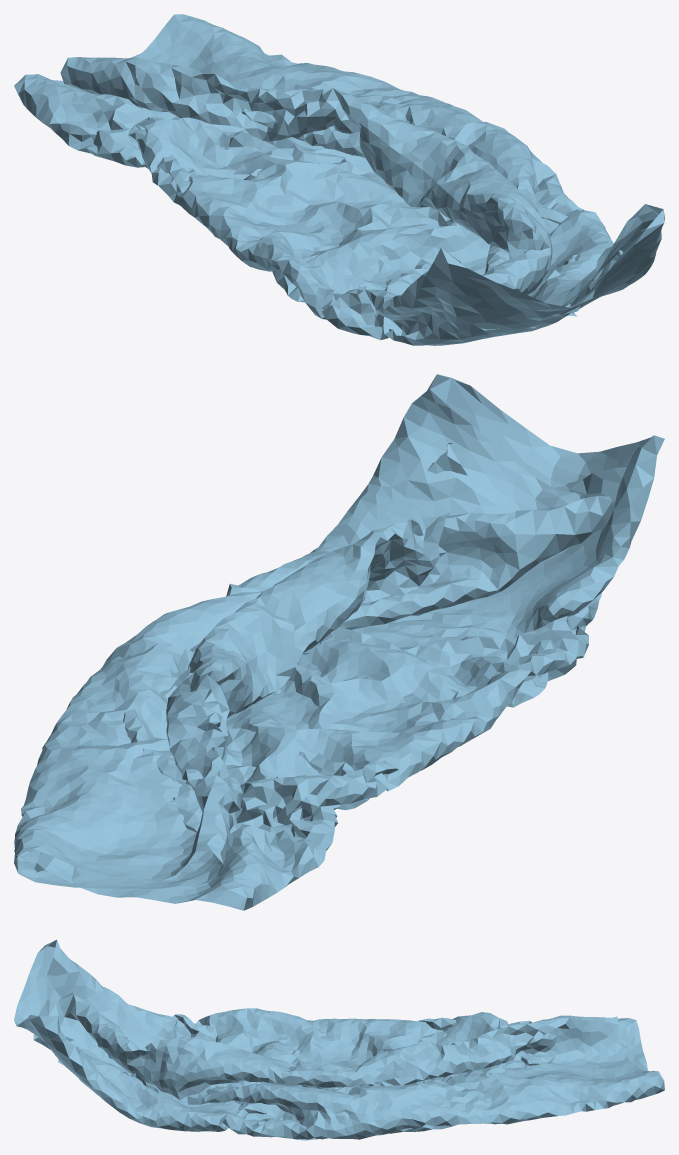
Rendered from frame_02.glb.
3 views of the same model, one above another, from view 1: azimuth 30°, elevation 25°; view 2: azimuth 150°, elevation 25°; view 3: azimuth 270°, elevation 25° (orthographic). The views are drawn at different scales.
Visible parts, largest first — view 1: frame_02.obj; view 2: frame_02.obj; view 3: frame_02.obj.
Boxes of the visible parts, x1,y1,x2,y2 form: frame_02.obj: [14, 14, 664, 345]; frame_02.obj: [14, 374, 664, 910]; frame_02.obj: [14, 939, 664, 1140].
Bounding box in the file's own units: 0.7874 × 0.3412 × 1.91.
